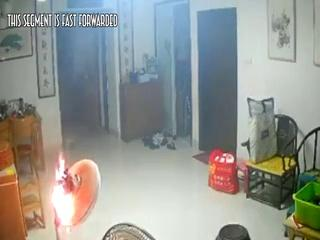Fire: (50, 136, 86, 237)
